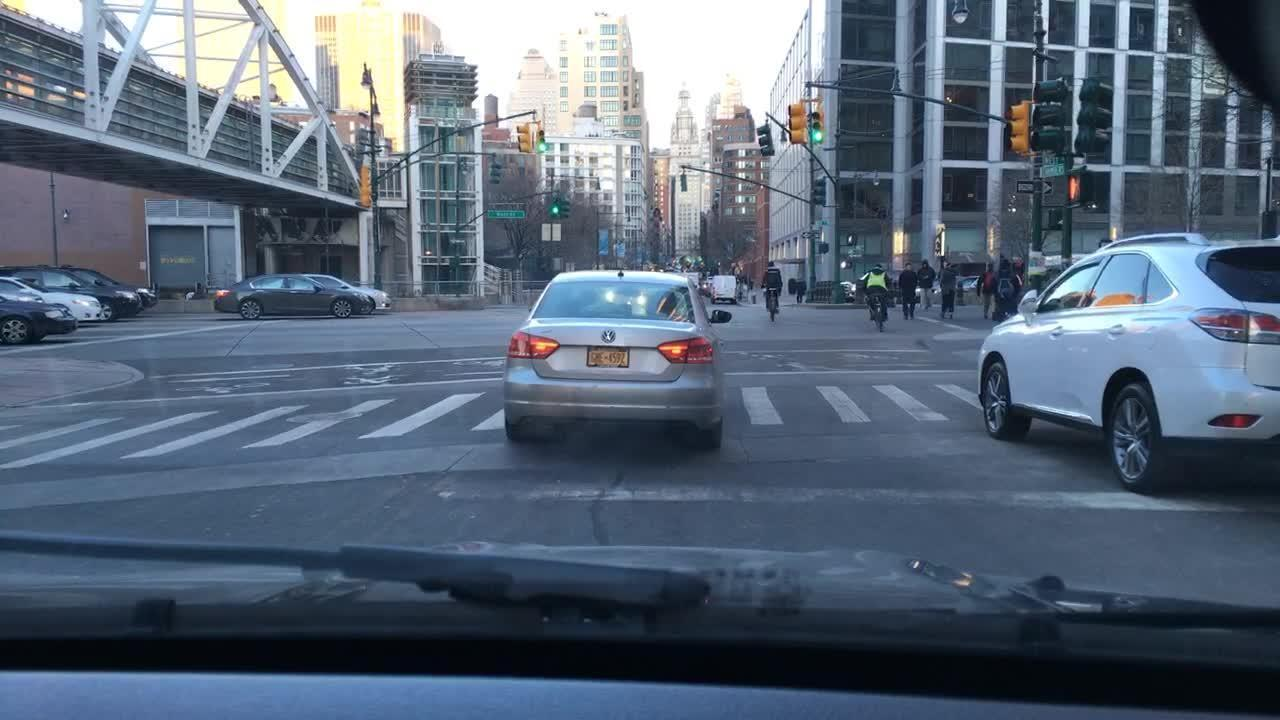Volkswagen: (598, 324, 618, 348)
